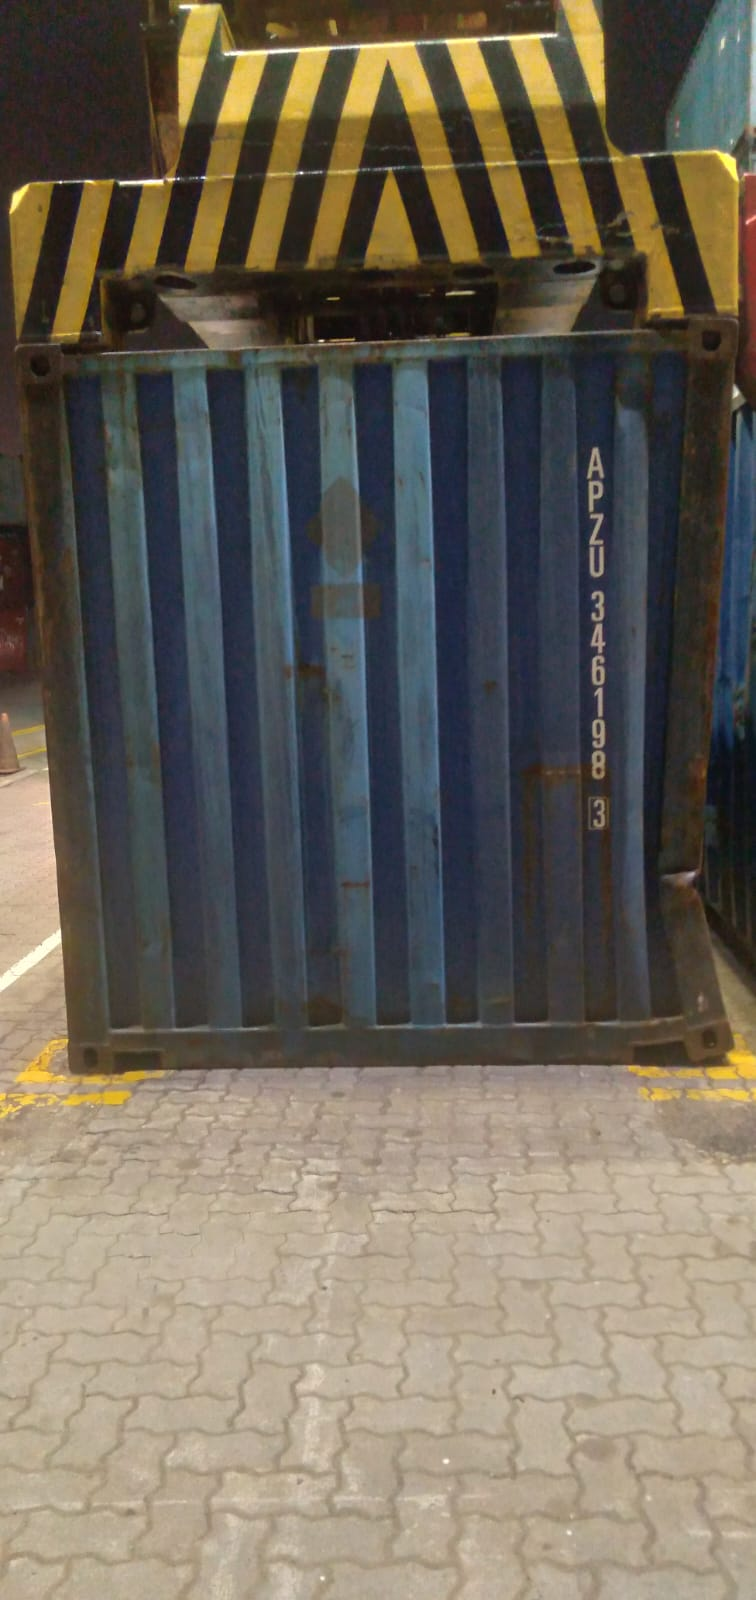front_side: (4, 341, 727, 1041)
